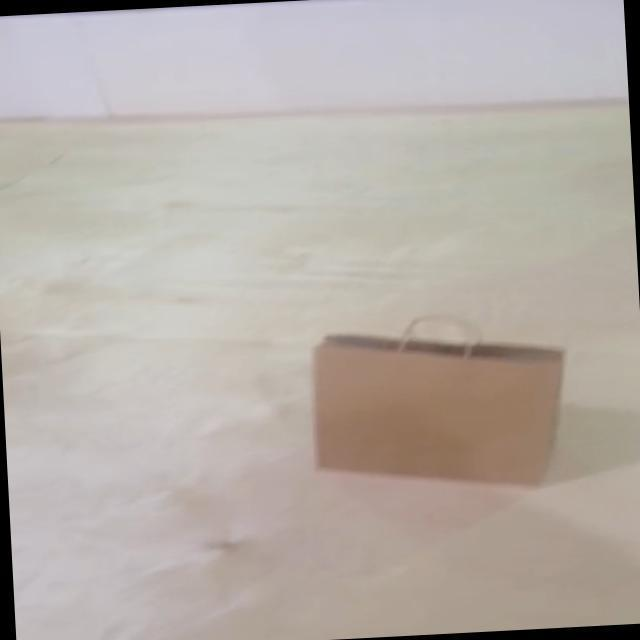Paper_Bag: (309, 308, 572, 498)
